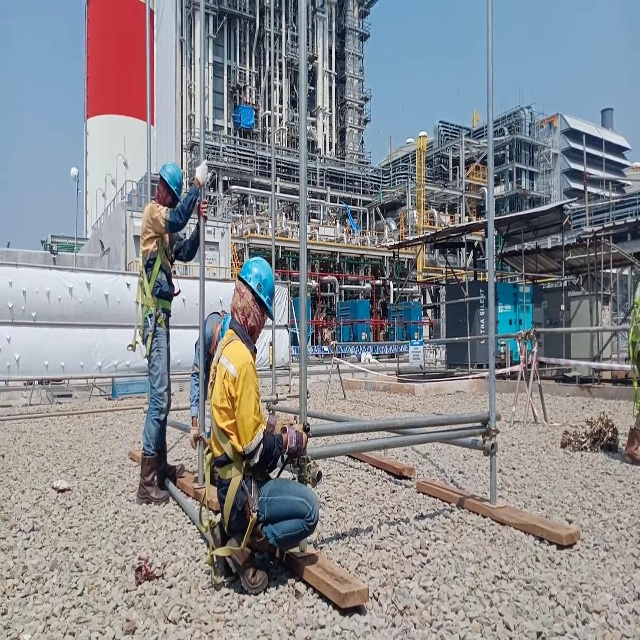Arnes_seguridad: (203, 337, 257, 574), (127, 230, 173, 356), (626, 289, 640, 414)
